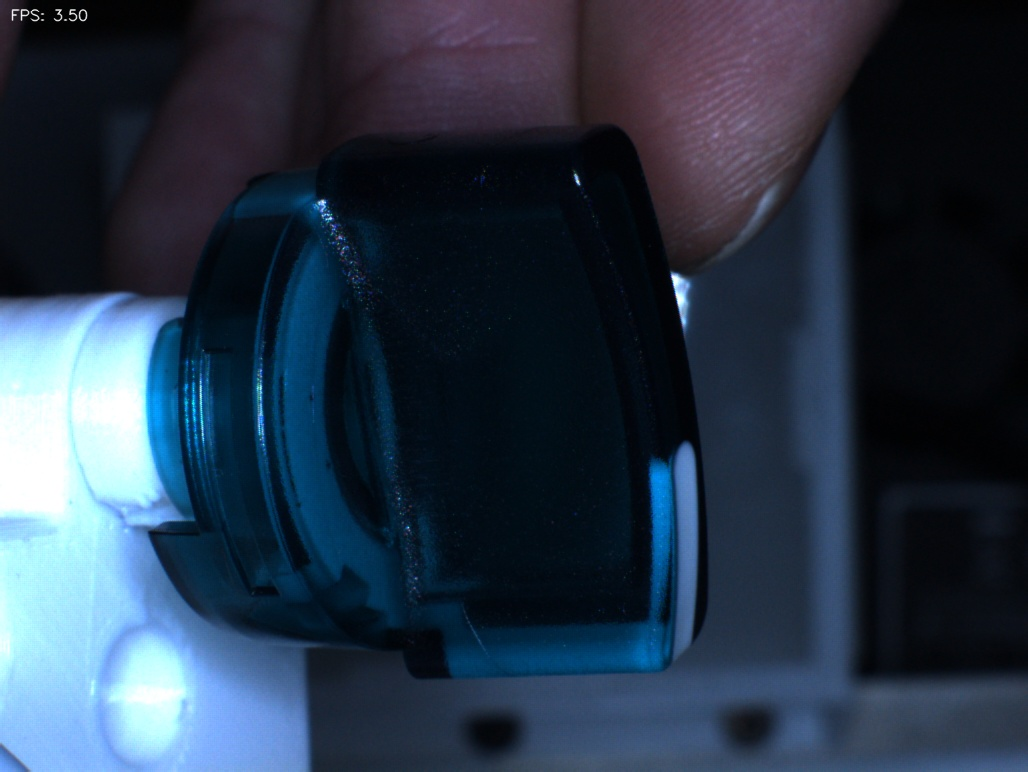PointNoir: (271, 352, 345, 426)
